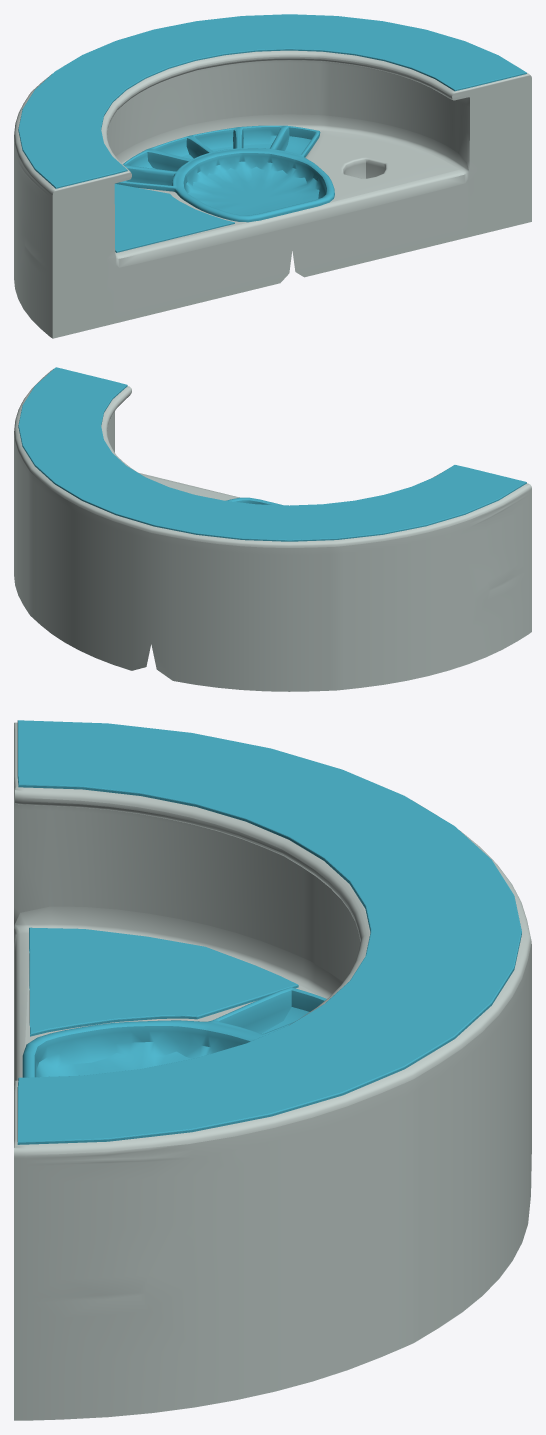
Rendered from table 1.fbx.
The picture shows the model from 3 angles, top to bottom: view 1: azimuth 30°, elevation 25°; view 2: azimuth 150°, elevation 25°; view 3: azimuth 270°, elevation 25°; orthographic projection. The views are drawn at different scales.
Parts seen in each view (by area): view 1: Table, Glass, Other; view 2: Table, Glass; view 3: Table, Glass, Other.
Boxes of the visible parts, box(x1,y1,x2,y2) form: Table: box(14, 50, 531, 338); Glass: box(18, 14, 526, 188); Other: box(114, 125, 334, 252); Table: box(14, 369, 531, 691); Glass: box(18, 367, 526, 541); Table: box(14, 722, 531, 1420); Glass: box(17, 720, 521, 1144); Other: box(22, 927, 326, 1077).
Size of the model in its own units: 306 by 91.35 by 156.
